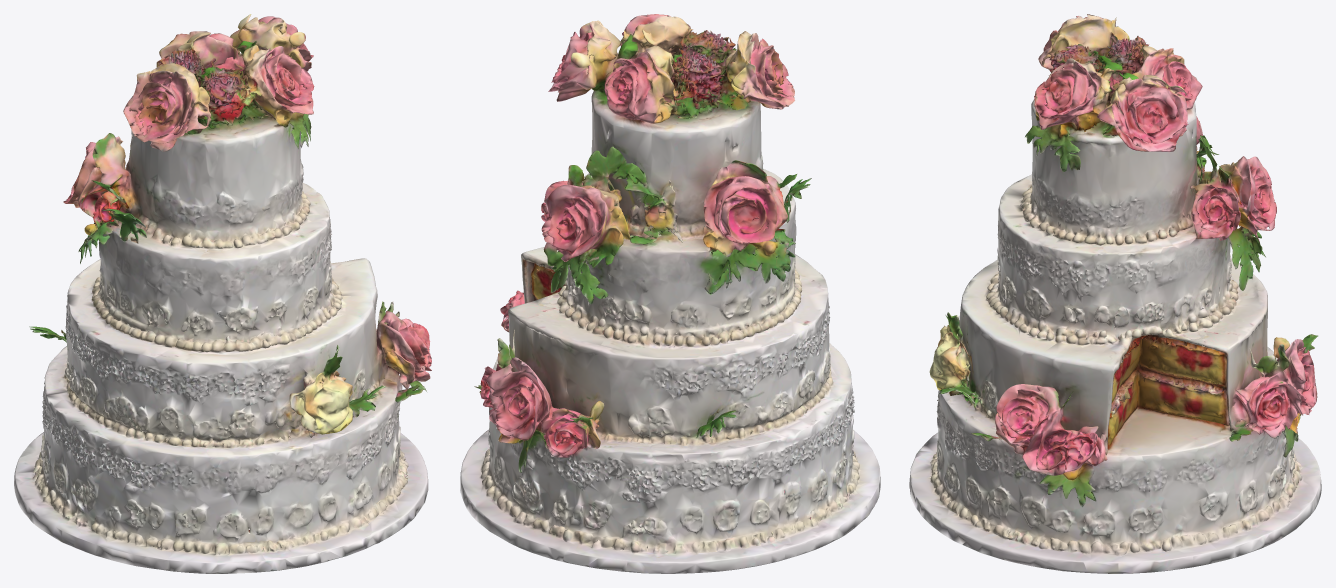
File: wedding.glb
3 renders of one model, left to right at view 1: azimuth 30°, elevation 25°; view 2: azimuth 150°, elevation 25°; view 3: azimuth 270°, elevation 25°, orthographic. The views are drawn at different scales.
Visible parts, largest first — view 1: Object_4; view 2: Object_4; view 3: Object_4.
Boxes of the visible parts, left/top/right/bottom form: Object_4: left=14, top=14, right=431, bottom=573; Object_4: left=460, top=14, right=880, bottom=573; Object_4: left=909, top=14, right=1321, bottom=573.
Bounding box in the file's own units: 0.3823 × 0.4499 × 0.3804.
Materials: 1 (1 with a texture image).
